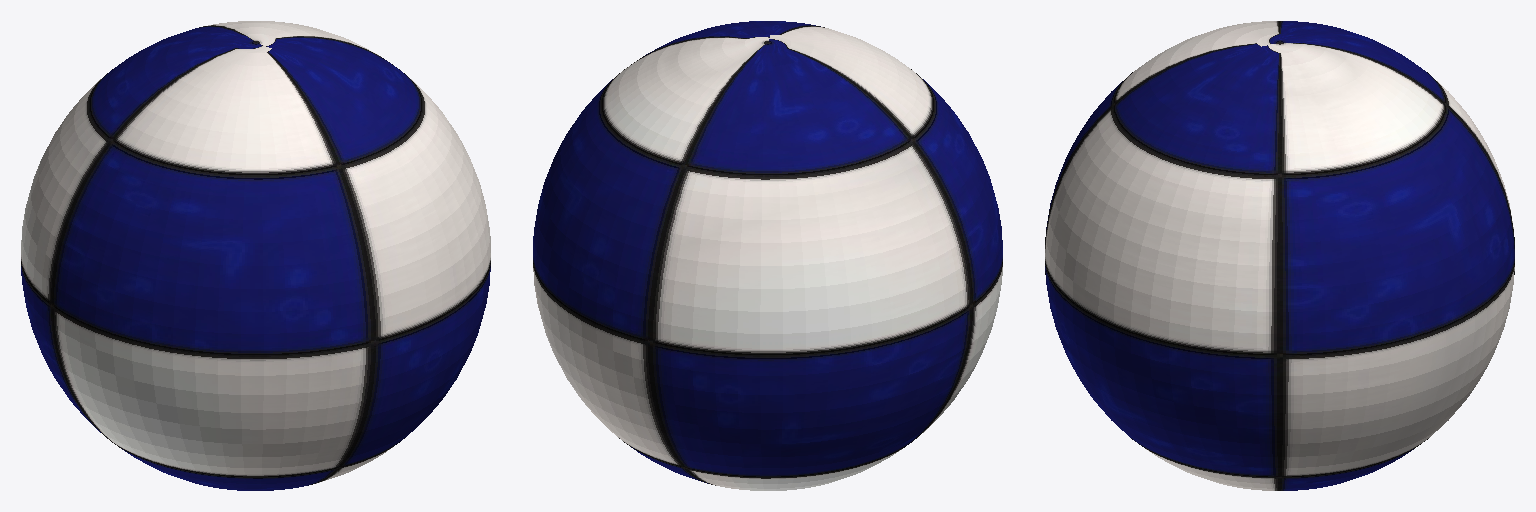
The picture shows the model from 3 angles: view 1: azimuth 30°, elevation 25°; view 2: azimuth 150°, elevation 25°; view 3: azimuth 270°, elevation 25°; orthographic projection.
Parts seen in each view (by area): view 1: Sphere; view 2: Sphere; view 3: Sphere.
Boxes of the visible parts, <box> form: Sphere: <box>21,21,490,490</box>; Sphere: <box>533,21,1002,490</box>; Sphere: <box>1045,21,1514,490</box>.
Bounding box in the file's own units: 2 × 2 × 2.
Materials: 1 (1 with a texture image).